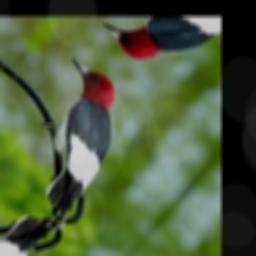Woodpecker: (0, 51, 161, 228)
